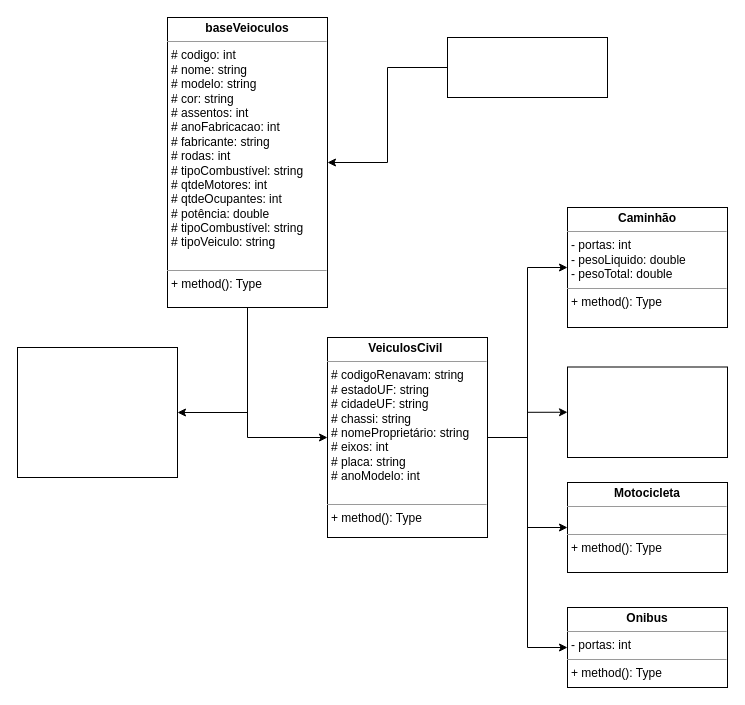
Some shapes in this 745 by 705 pixel diagram are drawn without their labels. The centre of each missing label's shape, as x and y in pixels:
"Aviao - portas: int - pesoLiquido: double - pesoTotal: double + method(): Type" goes at (97,412).
"Carro - portas: int + Carro (..., int)" goes at (647,412).
"IImpressão + Imprimir():void" goes at (527,67).
